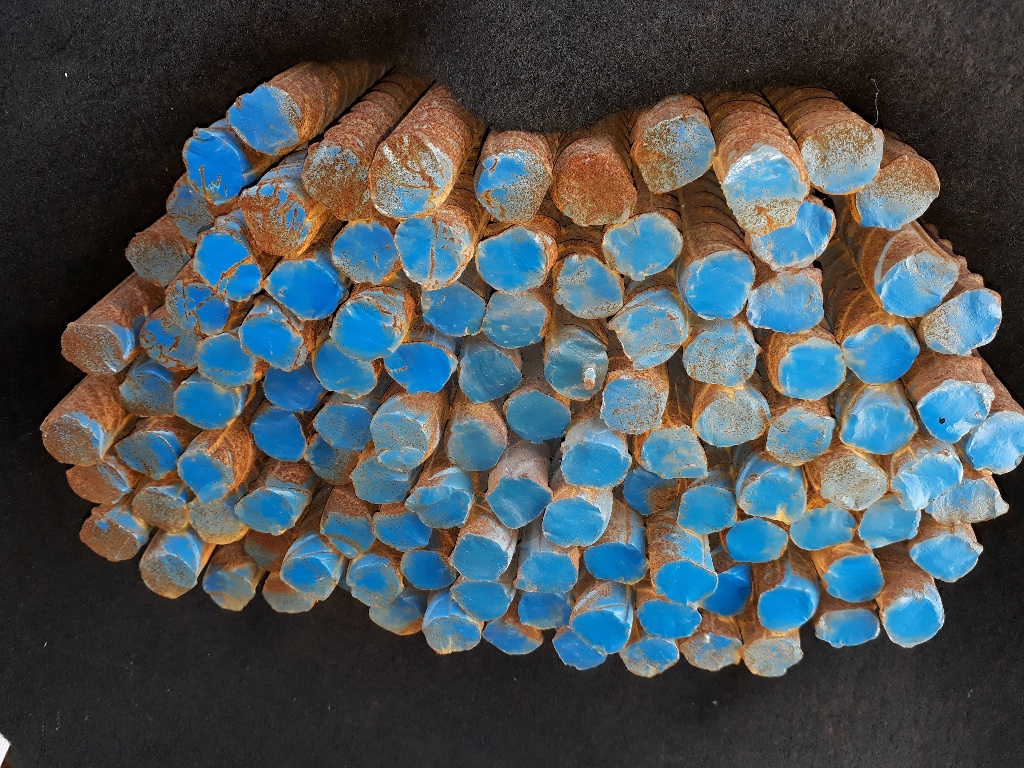dipstick: (724, 149, 807, 232), (372, 135, 454, 219), (631, 115, 718, 192), (554, 154, 636, 228), (858, 156, 940, 228), (396, 215, 471, 292), (603, 211, 684, 282), (473, 151, 551, 224), (804, 123, 883, 194), (923, 286, 1003, 356), (236, 184, 309, 259), (182, 127, 242, 214), (195, 231, 266, 303), (476, 227, 546, 300), (302, 147, 370, 222), (262, 255, 338, 322), (879, 253, 961, 315), (225, 87, 299, 155), (916, 379, 993, 444), (553, 252, 624, 320), (329, 219, 401, 285), (687, 252, 754, 321), (892, 449, 965, 512), (842, 325, 917, 386), (764, 407, 835, 470), (746, 274, 825, 330), (332, 296, 396, 363), (544, 336, 609, 401), (839, 401, 918, 454), (681, 328, 757, 383), (239, 313, 304, 374), (599, 374, 666, 433), (694, 395, 770, 446), (314, 339, 377, 400), (420, 278, 485, 337), (640, 425, 707, 481), (165, 281, 232, 337), (740, 470, 806, 526), (925, 480, 1008, 524), (481, 291, 545, 348), (968, 409, 1024, 474), (383, 343, 457, 392), (487, 475, 553, 529), (781, 341, 842, 399), (60, 322, 125, 376), (820, 458, 888, 509), (506, 390, 572, 442), (125, 229, 182, 289), (197, 332, 257, 389), (540, 495, 604, 548), (561, 442, 633, 489), (137, 318, 199, 372), (858, 494, 921, 547), (460, 350, 524, 402), (910, 536, 979, 584), (789, 503, 858, 551), (370, 413, 428, 469), (260, 358, 323, 408), (677, 483, 736, 535), (582, 538, 647, 585), (825, 553, 886, 603), (114, 430, 176, 479), (884, 598, 942, 650), (449, 534, 510, 583), (758, 586, 816, 637), (372, 502, 431, 552), (403, 485, 470, 529), (170, 380, 234, 426), (112, 370, 173, 418), (39, 421, 100, 469), (570, 610, 632, 657), (176, 452, 232, 504), (349, 456, 410, 503), (78, 518, 139, 565), (653, 559, 717, 603), (447, 424, 508, 470), (140, 553, 199, 600), (725, 518, 788, 562), (187, 499, 248, 544), (321, 511, 377, 560), (251, 410, 308, 458), (233, 489, 295, 533), (66, 461, 126, 506), (623, 465, 678, 514), (165, 177, 210, 236), (813, 610, 881, 649), (513, 552, 579, 592), (313, 405, 370, 450), (681, 632, 744, 672), (451, 580, 512, 621), (307, 436, 358, 485), (399, 548, 457, 591), (132, 488, 188, 532), (637, 601, 703, 638), (421, 616, 481, 655), (282, 557, 334, 602), (621, 637, 681, 675), (554, 629, 607, 671), (203, 571, 257, 612), (702, 570, 749, 617), (347, 565, 399, 607), (743, 638, 796, 678), (483, 620, 543, 655), (366, 599, 421, 637), (262, 578, 315, 615), (243, 528, 293, 567), (518, 591, 567, 629)
